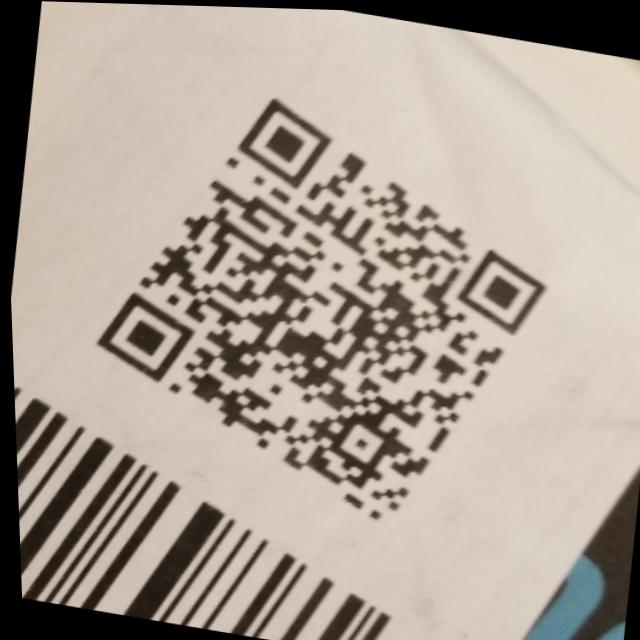QR_CODE: (46, 51, 591, 557)
